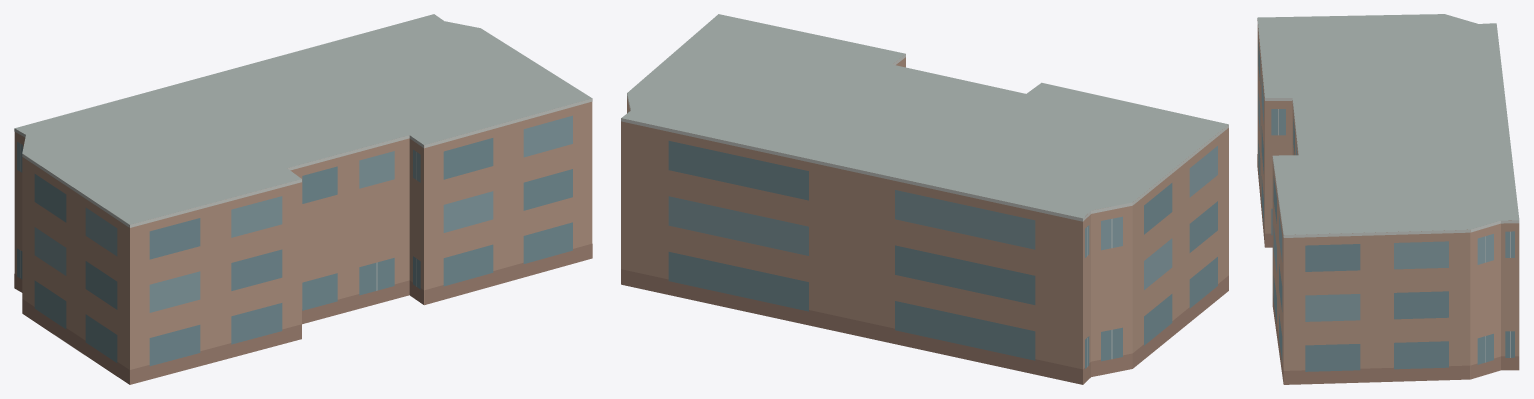
Rendered from survey-upis-33015632.glb.
The picture shows the model from 3 angles, left to right: view 1: azimuth 30°, elevation 25°; view 2: azimuth 150°, elevation 25°; view 3: azimuth 270°, elevation 25°; orthographic projection. The views are drawn at different scales.
Visible parts, largest first — view 1: survey-upis-33015632.tmp; view 2: survey-upis-33015632.tmp; view 3: survey-upis-33015632.tmp.
Part boxes in pixels (x1,y1,x2,y2): survey-upis-33015632.tmp: (14, 14, 592, 384); survey-upis-33015632.tmp: (621, 14, 1228, 384); survey-upis-33015632.tmp: (1257, 14, 1519, 384).
Size of the model in its own units: 38.94 by 12.3 by 19.5.
